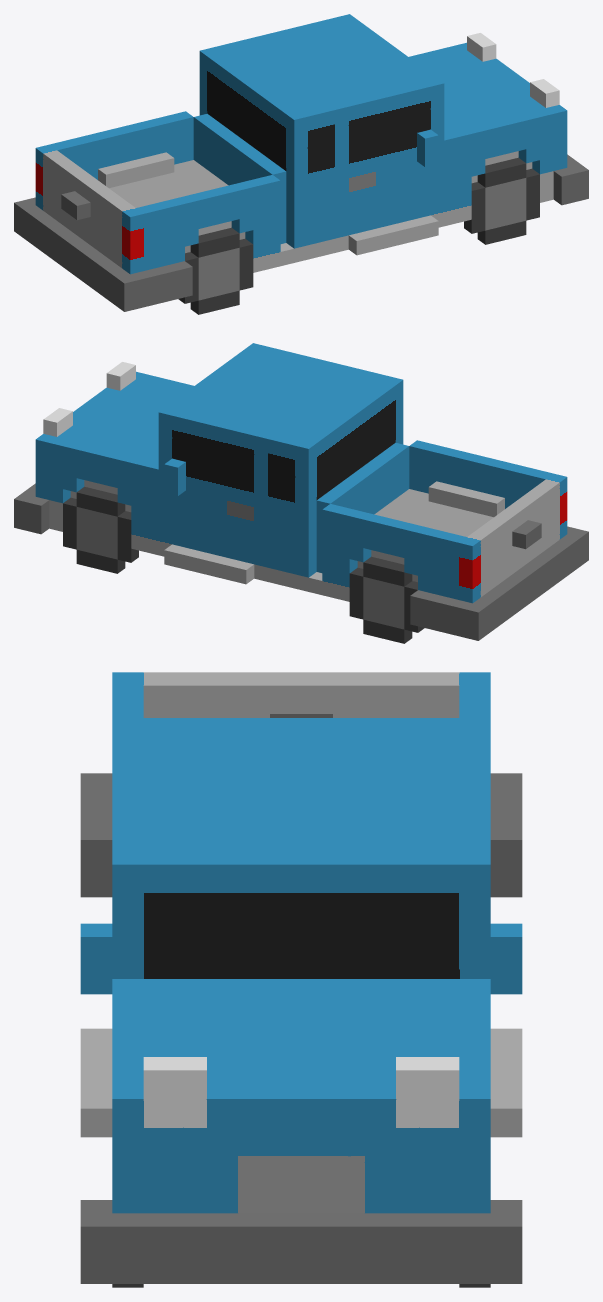
Rendered from veh_truck5.fbx.
3 views of the same model, one above another, from view 1: azimuth 30°, elevation 25°; view 2: azimuth 150°, elevation 25°; view 3: azimuth 270°, elevation 25° (orthographic). The views are drawn at different scales.
Visible parts, largest first — view 1: veh_truck5; view 2: veh_truck5; view 3: veh_truck5.
Boxes of the visible parts, x1=… form: veh_truck5: x1=14, y1=14, x2=588, y2=314; veh_truck5: x1=14, y1=343, x2=588, y2=643; veh_truck5: x1=80, y1=672, x2=522, y2=1287.
Bounding box in the file's own units: 3.4 × 1.4 × 1.2.
1 material, 1 textured.
